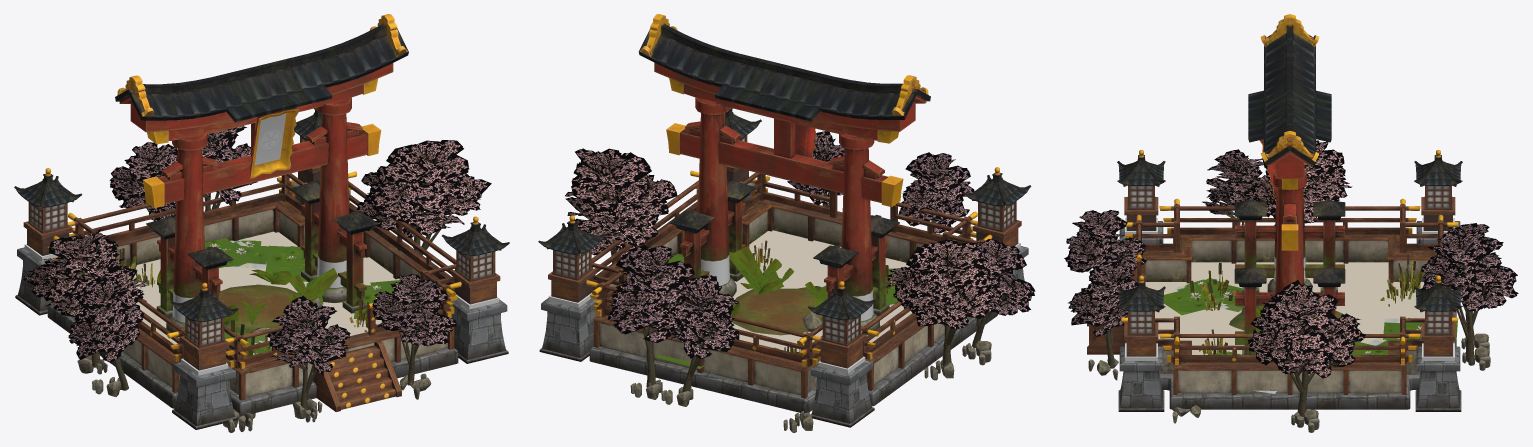
Rendered from 96-wonder-susanoo.glb.
The picture shows the model from 3 angles, left to right: view 1: azimuth 30°, elevation 25°; view 2: azimuth 150°, elevation 25°; view 3: azimuth 270°, elevation 25°; orthographic projection. The views are drawn at different scales.
Size of the model in its own units: 20.51 by 12.88 by 19.22.
21 materials, 20 textured.
